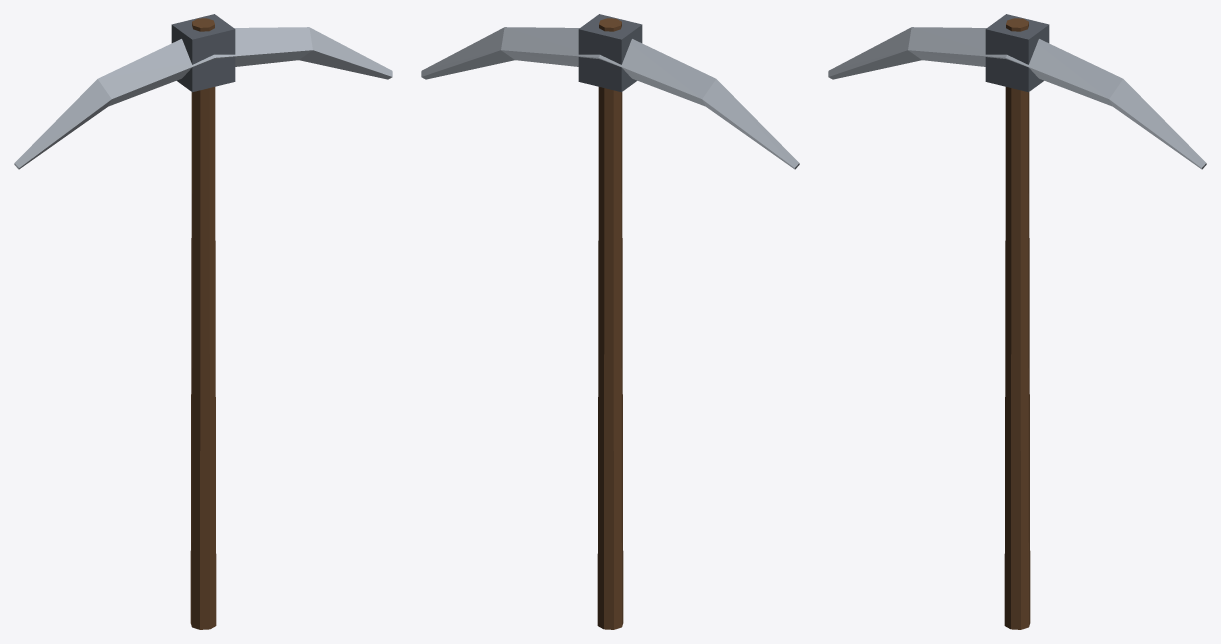
File: g-pickaxe.glb
The picture shows the model from 3 angles, left to right: view 1: azimuth 30°, elevation 25°; view 2: azimuth 150°, elevation 25°; view 3: azimuth 330°, elevation 25°; orthographic projection.
Visible parts, largest first — view 1: g-pickaxe; view 2: g-pickaxe; view 3: g-pickaxe.
Boxes of the visible parts, bbox=[...] form: g-pickaxe: bbox=[14, 14, 392, 629]; g-pickaxe: bbox=[421, 14, 799, 629]; g-pickaxe: bbox=[828, 14, 1206, 629].
Size of the model in its own units: 0.526 by 0.8 by 0.056.
